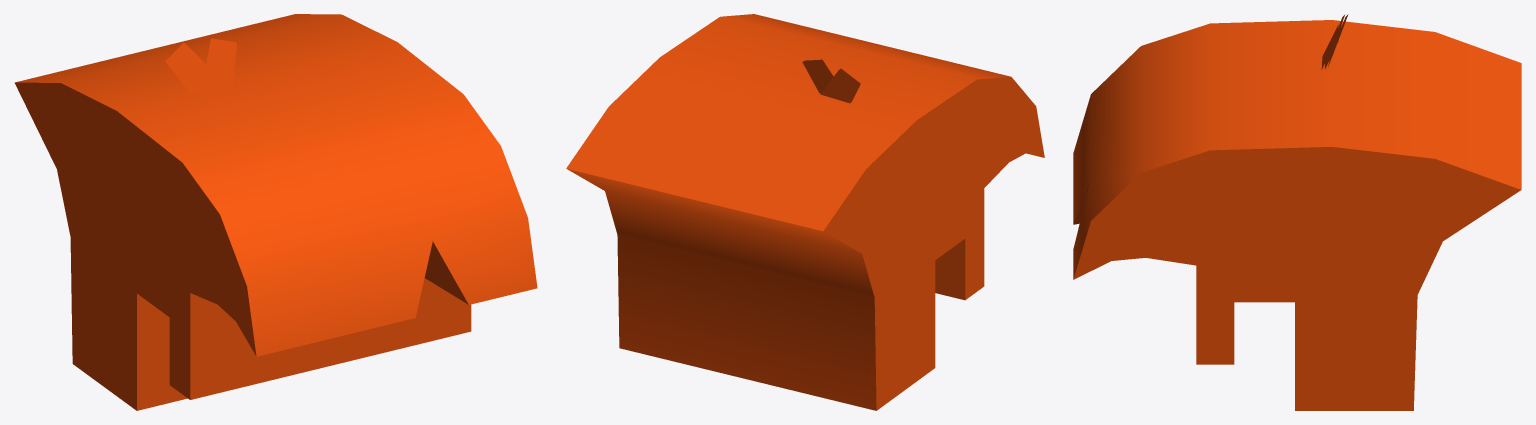
The model's file is Hair Male 08.FBX.
3 renders of one model, left to right at view 1: azimuth 30°, elevation 25°; view 2: azimuth 150°, elevation 25°; view 3: azimuth 270°, elevation 25°, orthographic. The views are drawn at different scales.
Visible parts, largest first — view 1: Hair Male 08; view 2: Hair Male 08; view 3: Hair Male 08.
Part boxes in pixels (<box>): Hair Male 08: <box>14,14,537,410</box>; Hair Male 08: <box>566,14,1044,410</box>; Hair Male 08: <box>1073,14,1521,410</box>.
Size of the model in its own units: 52.44 by 58.82 by 78.25.
Materials: 1 (1 with a texture image).
